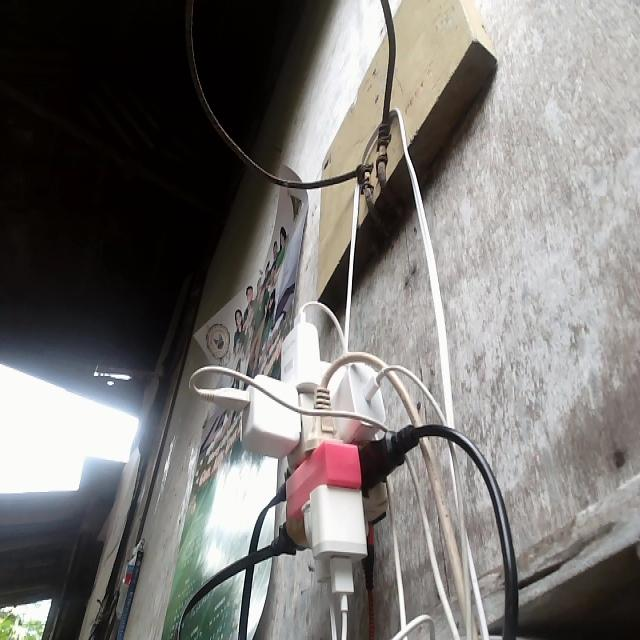-: (205, 298, 433, 602)
